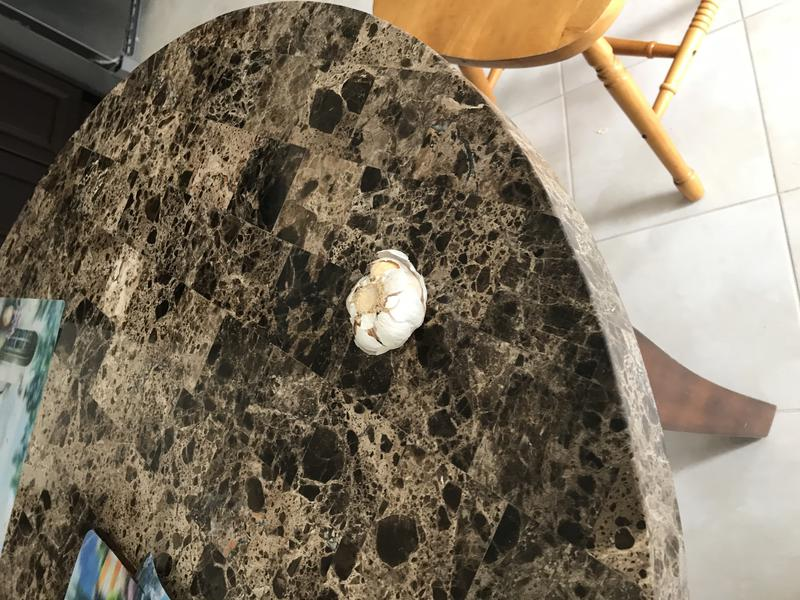garlic: (342, 245, 436, 359)
